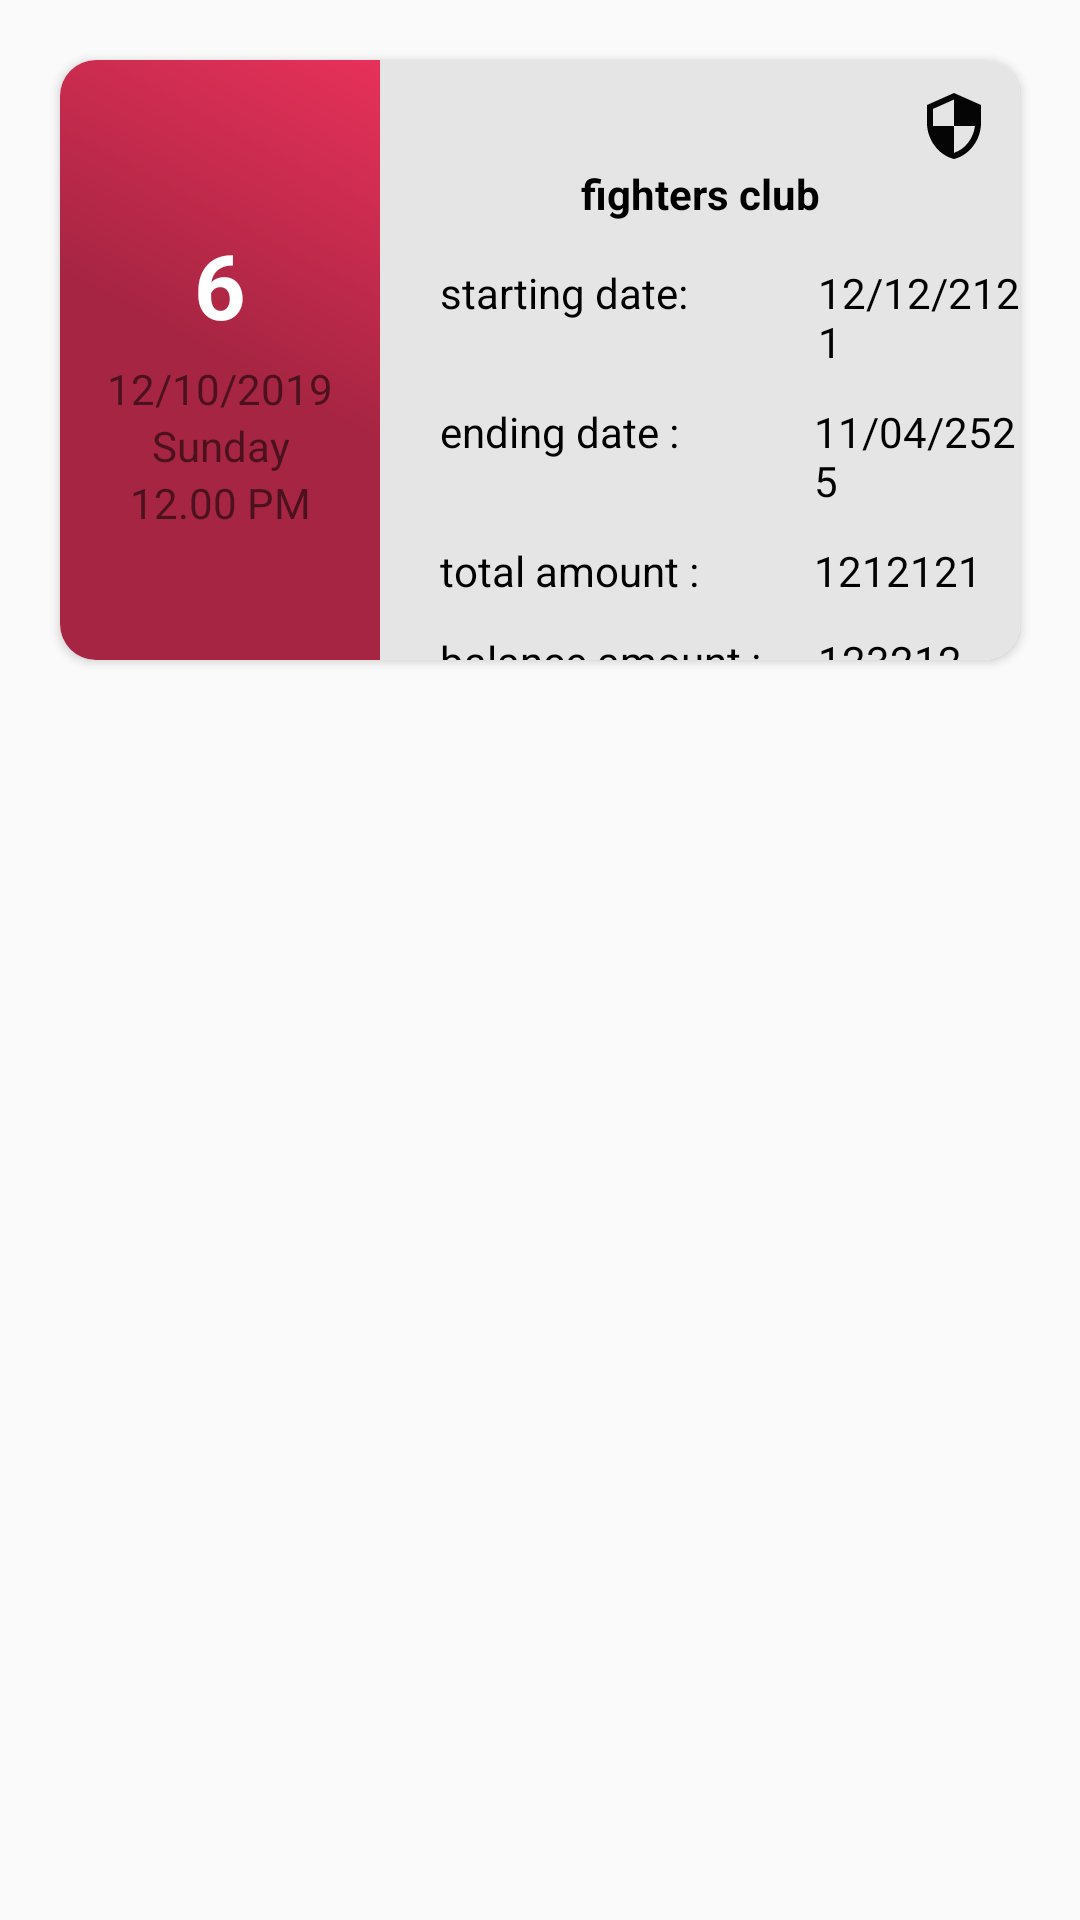

Screen size 1080*1920. Icon name, then its center in pixels as (x,y):
admin: (954,126)
